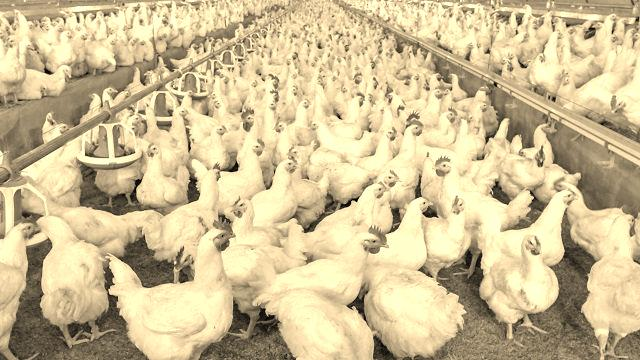Healthy: (108, 216, 239, 355)
